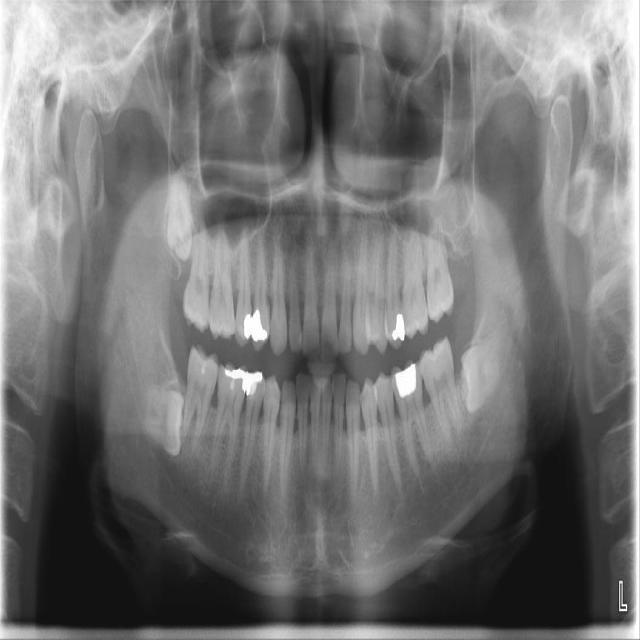Filling: (394, 364, 420, 397), (225, 369, 248, 391), (252, 309, 267, 341), (246, 371, 263, 394), (392, 314, 406, 341), (243, 313, 252, 337)
impacted tooth: (461, 310, 511, 411), (131, 390, 183, 456), (165, 163, 194, 259)
